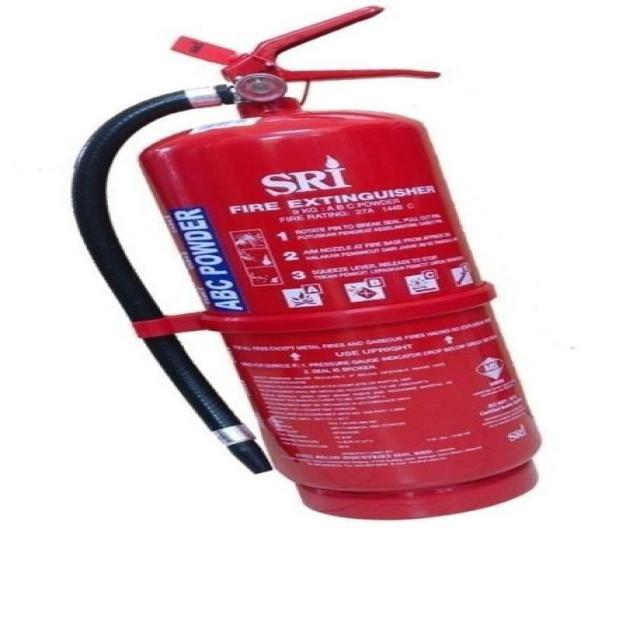fire_extinguisher: (51, 1, 555, 528)
